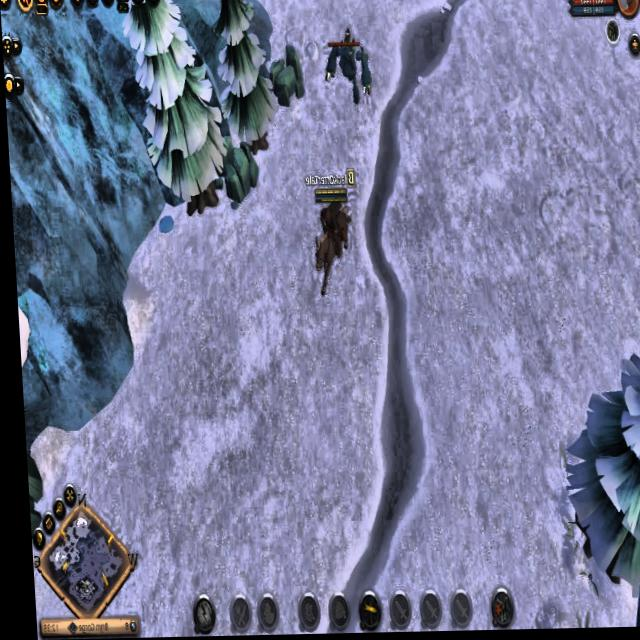sandstone: (217, 139, 259, 206), (266, 45, 306, 109), (21, 442, 43, 548)
